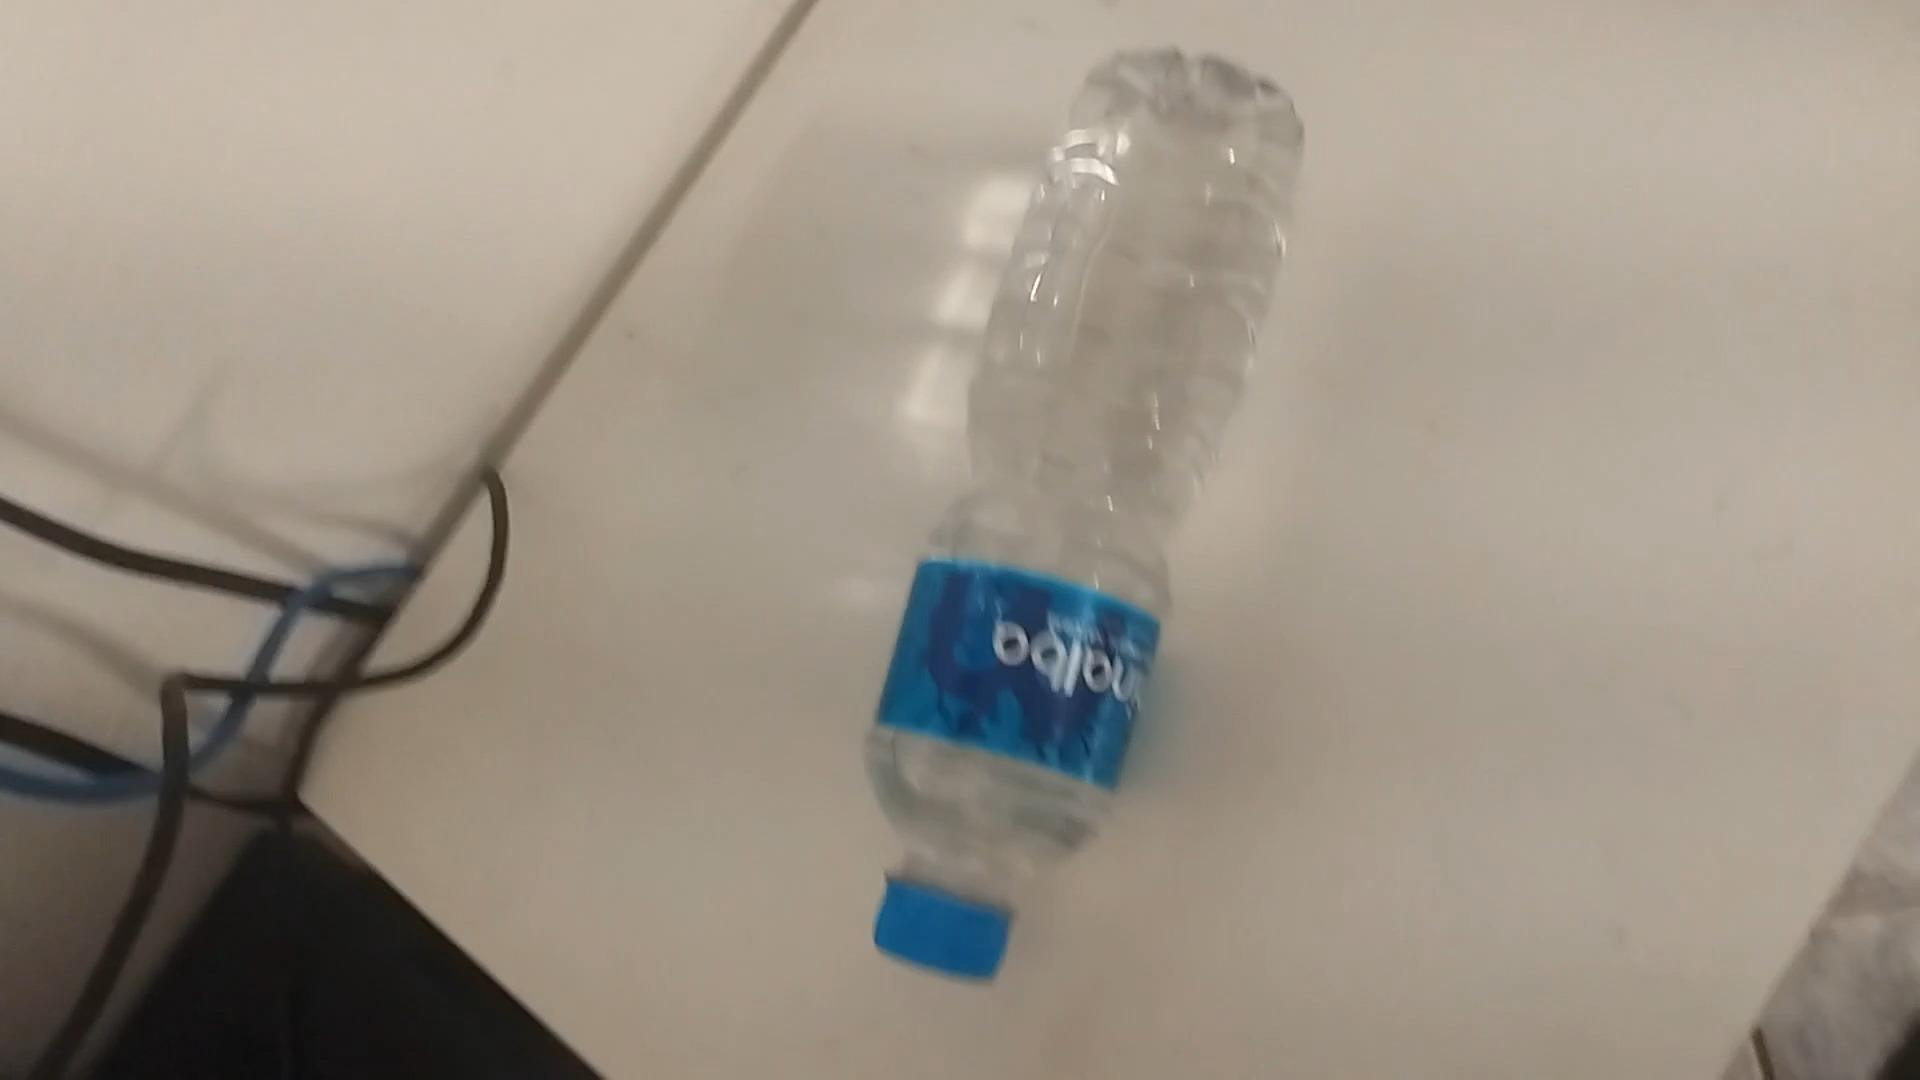agua: (864, 50, 1294, 990)
